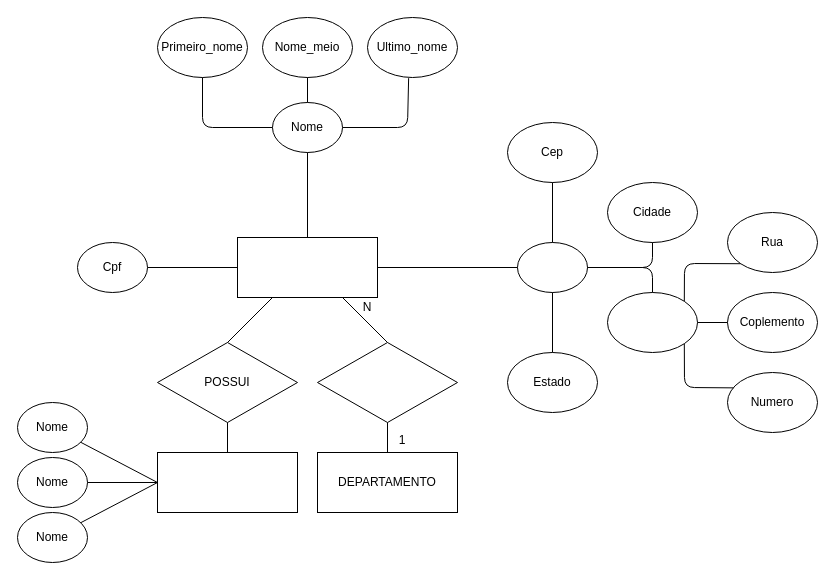
This 835x580 diagram has some shape labels left out. Here are the shapes that lost their labels. From the top down, the centre of each, then its label:
the point at 307,267: FUNCIONARIO
the point at 552,267: Endereco
the point at 652,322: Logradouro
the point at 387,382: TRABALHA_PARA
the point at 227,482: USUARIO
